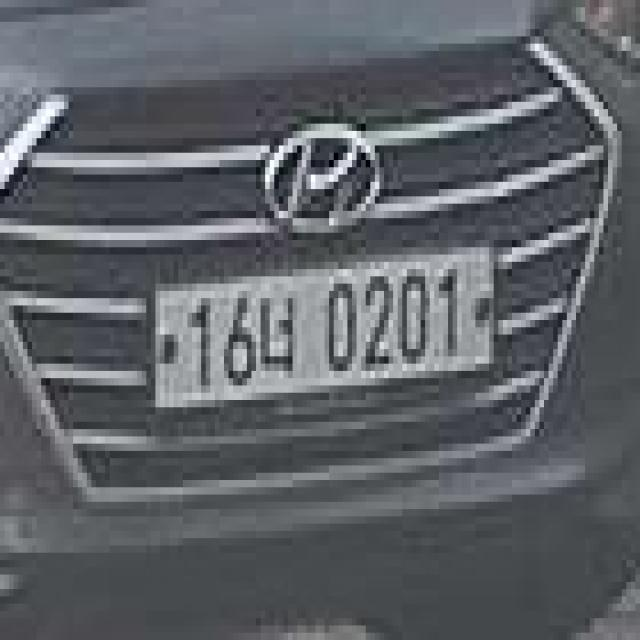0: (320, 276, 361, 393), (398, 262, 434, 371)
1: (178, 284, 224, 407), (430, 254, 466, 371)
2: (361, 262, 398, 378)
6: (220, 284, 260, 400)
license_plate: (142, 226, 503, 444)
neo: (256, 284, 306, 392)
